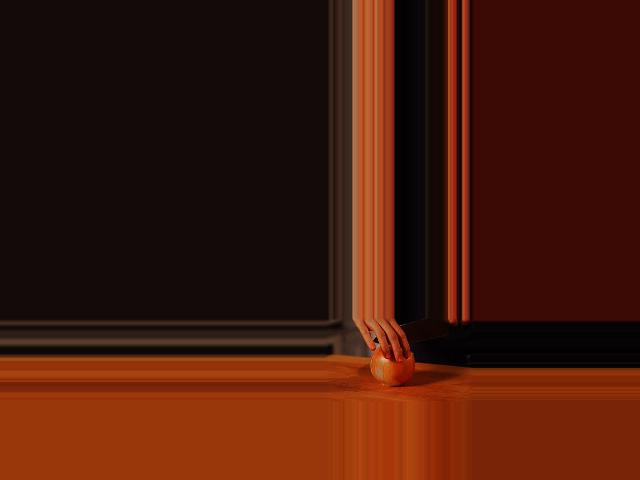onion: (371, 343, 415, 387)
